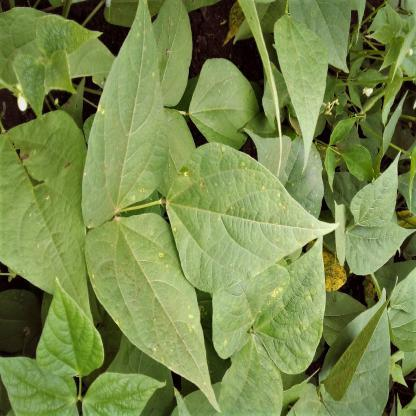Beans_Rust: (84, 213, 219, 408), (172, 144, 332, 288), (0, 113, 96, 324), (83, 6, 167, 200), (215, 262, 288, 358)
